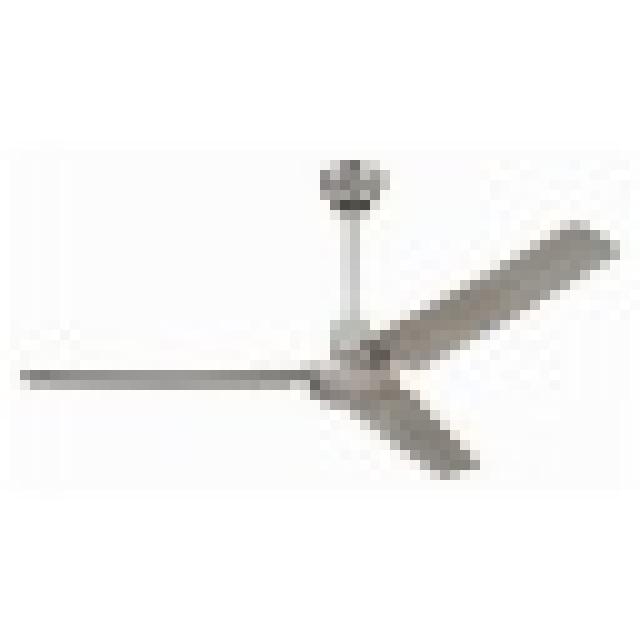Bulb: (20, 154, 622, 513)
